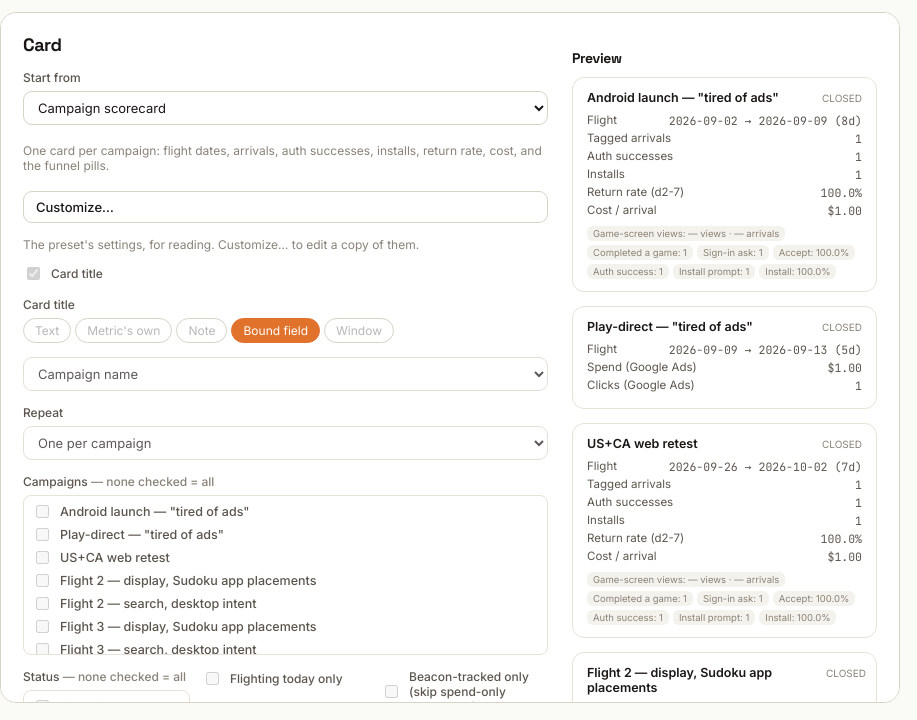
badge colour rows flag a duplicate or empty text instead of dropping or storing it › Reset to preset drops a flagged row: the row shows the preset text, no alert
Click the button "Customize…".
click(75, 207)  # box 23,191 -> 548,223
(page scrolled)
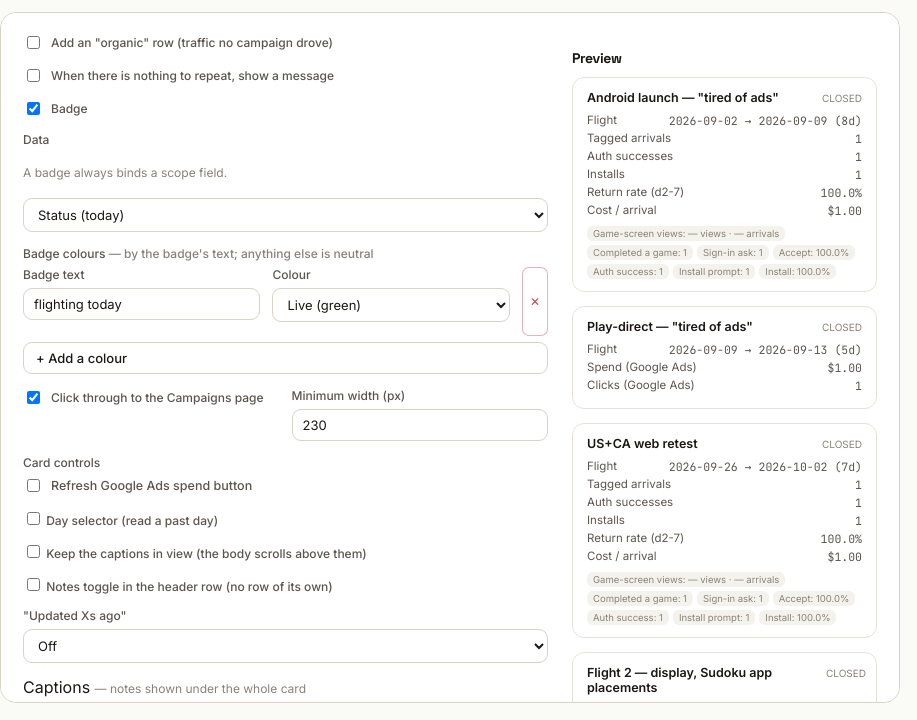
Click the button "+ Add a colour".
click(81, 358)  # box 23,342 -> 548,374
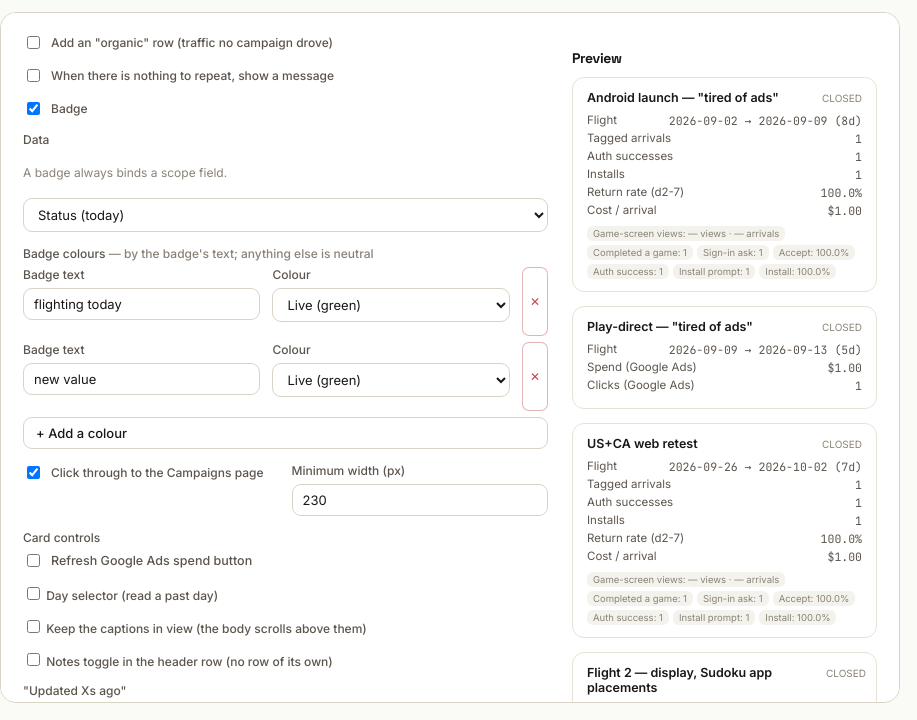
Clear the 1st field labelled "Badge text" at [142, 304], box 23,288 -> 260,320
(page scrolled)
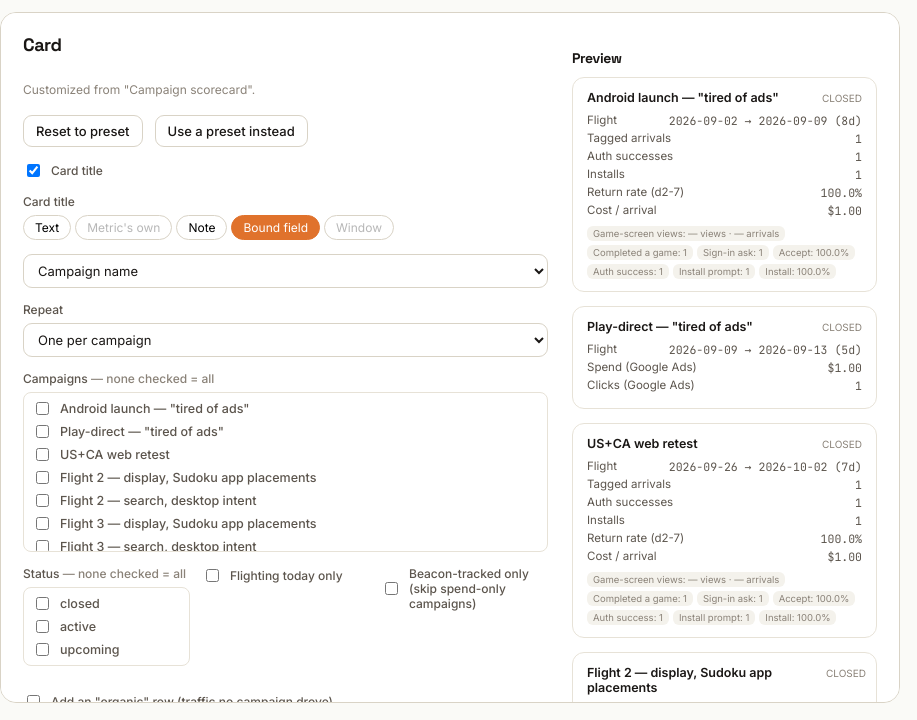
Click the button "Reset to preset".
click(83, 131)  # box 23,115 -> 142,147
(page scrolled)
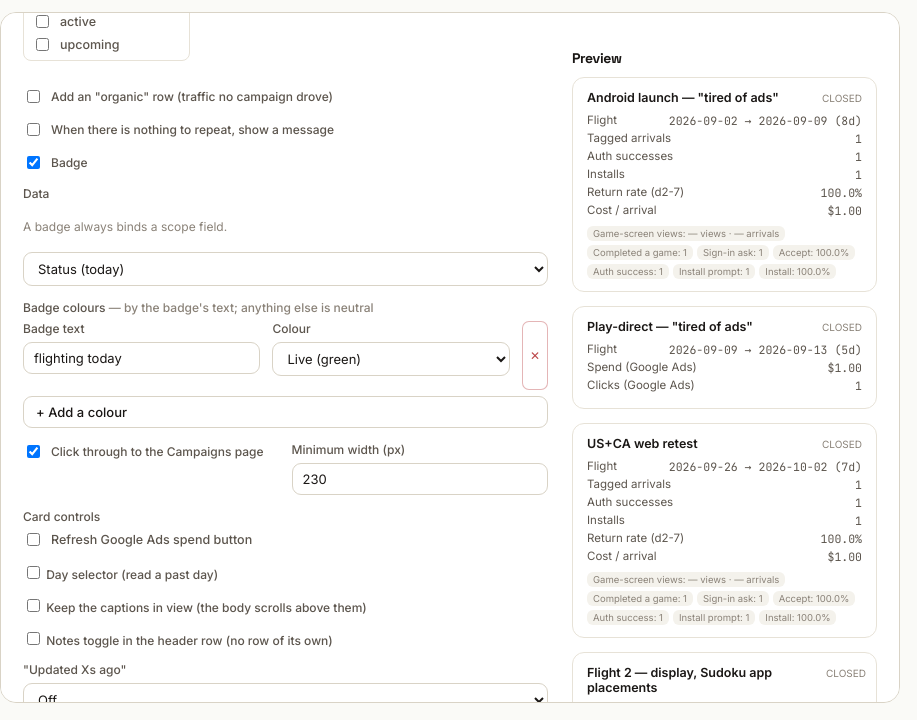
Now the field labelled "Badge text" holds "flighting today", box 23,342 -> 260,374
